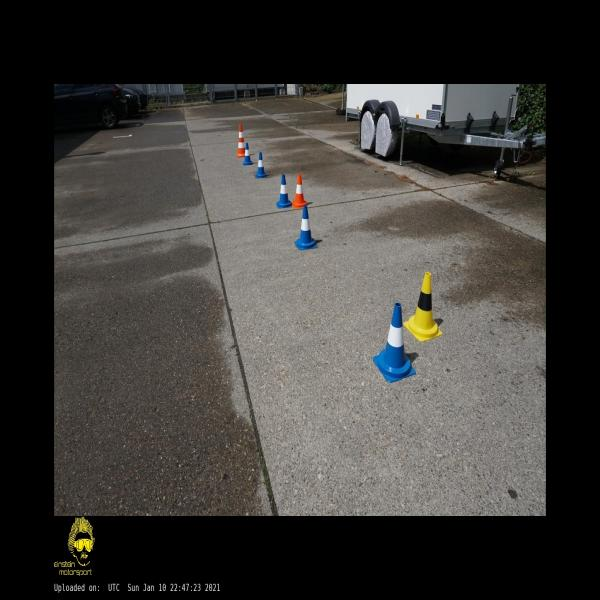blue_cone: (373, 302, 416, 383), (294, 206, 318, 250), (276, 174, 291, 208), (255, 152, 268, 178), (242, 142, 254, 166)
large_orange_cone: (236, 124, 246, 157)
orange_cone: (292, 174, 308, 208)
yellow_cone: (403, 272, 443, 342)
